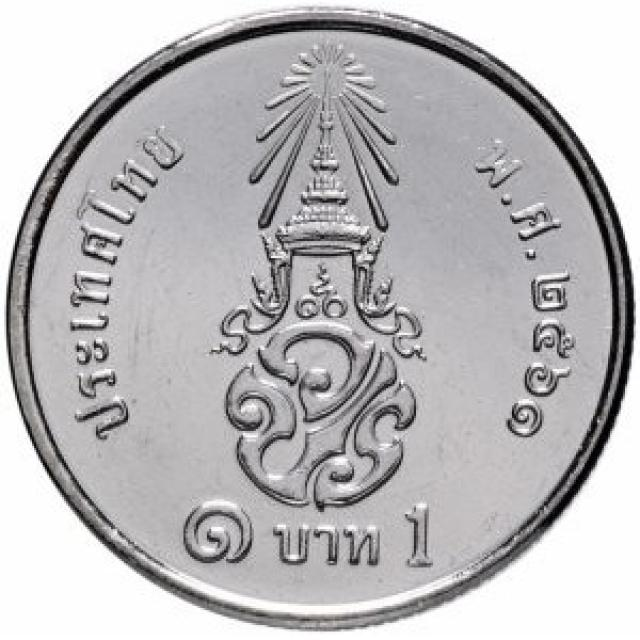1 Bath: (8, 4, 640, 634)
